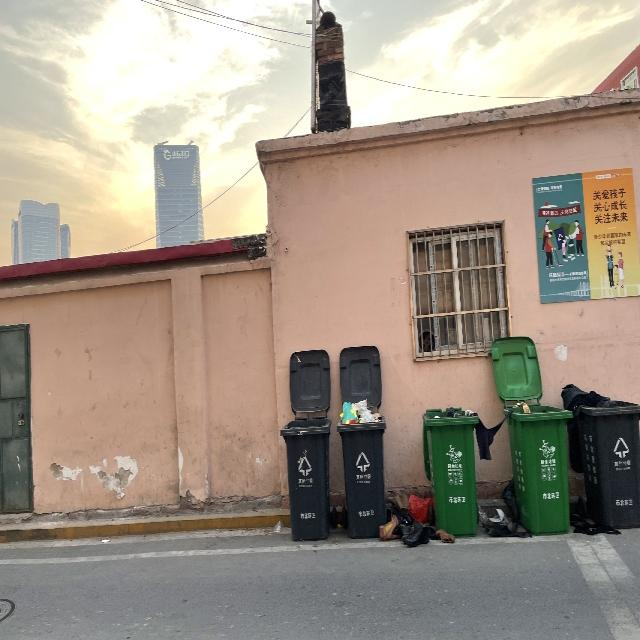garbage: (377, 493, 455, 548), (476, 476, 532, 538), (569, 495, 620, 535)
garbage_bin: (504, 402, 574, 535), (278, 416, 331, 540)
overflow: (560, 382, 638, 527), (422, 406, 502, 536), (335, 398, 386, 538)
